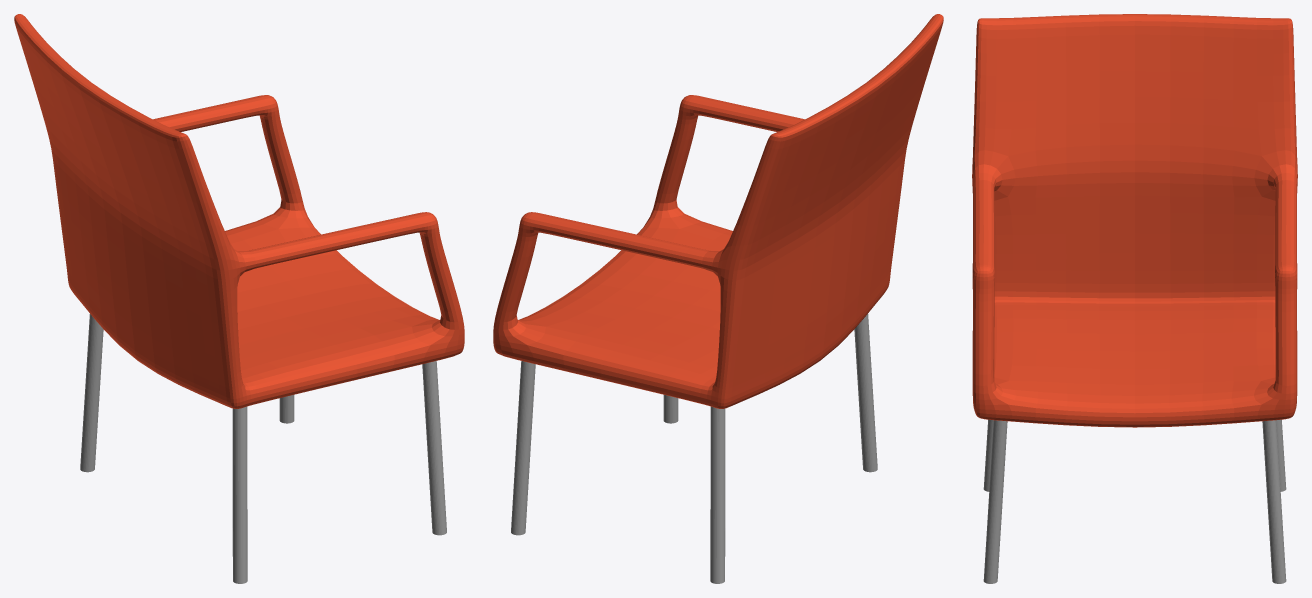
File: ChairC.fbx
3 renders of one model, left to right at view 1: azimuth 30°, elevation 25°; view 2: azimuth 150°, elevation 25°; view 3: azimuth 270°, elevation 25°, orthographic. The views are drawn at different scales.
Parts seen in each view (by area): view 1: ChairPlastic; view 2: ChairPlastic; view 3: ChairPlastic.
Part boxes in pixels (x1,y1,x2,y2): ChairPlastic: [14, 14, 464, 583]; ChairPlastic: [493, 14, 943, 583]; ChairPlastic: [972, 14, 1297, 583].
Size of the model in its own units: 63.74 by 93.38 by 62.6.
